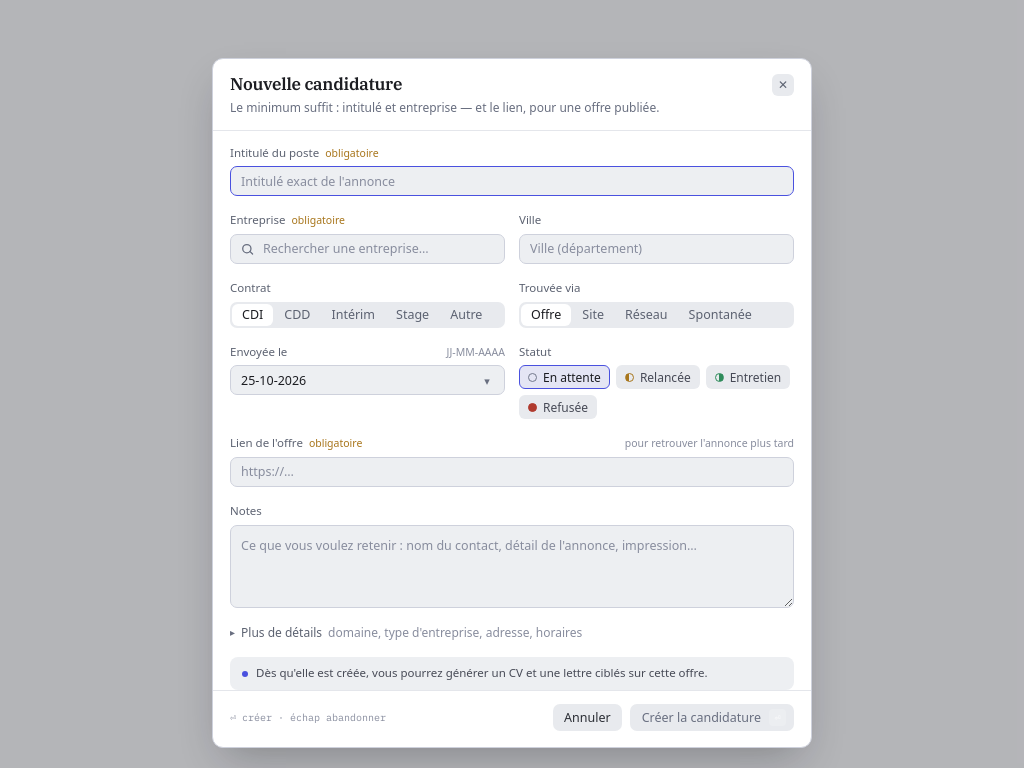
Test: Nouvelle candidature — création rapide d'entreprise › crée l'entreprise sans quitter le formulaire et la sélectionne
In the field labelled "Intitulé du poste": point(512, 181) 230,166 -> 794,196, type "Développeur Frontend"
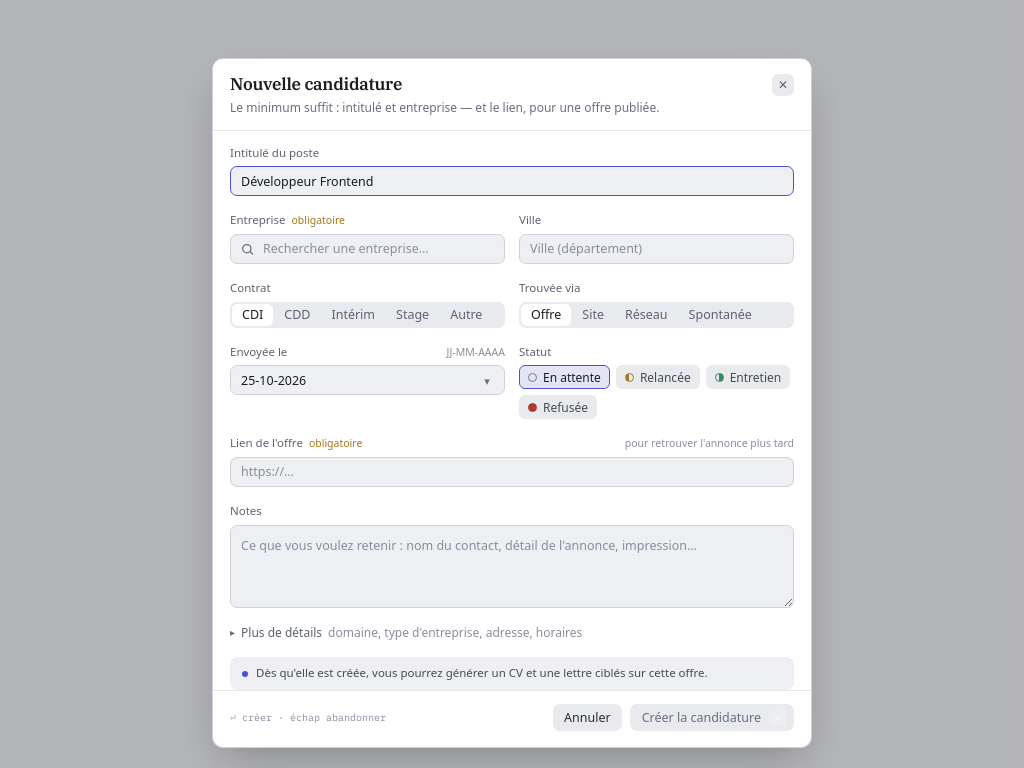
In the dropdown labelled "Entreprise": point(368, 249) 230,234 -> 505,264, type "Nova Digital"
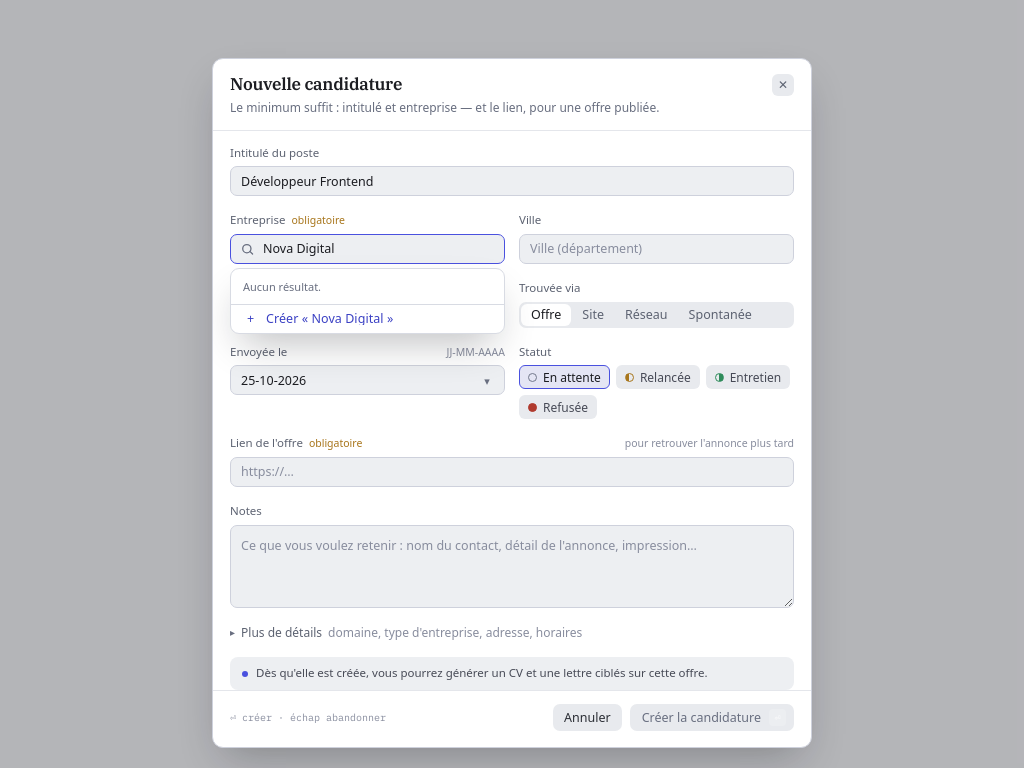
Click the button "+ Créer « Nova Digital »": point(368, 319) 231,304 -> 504,334
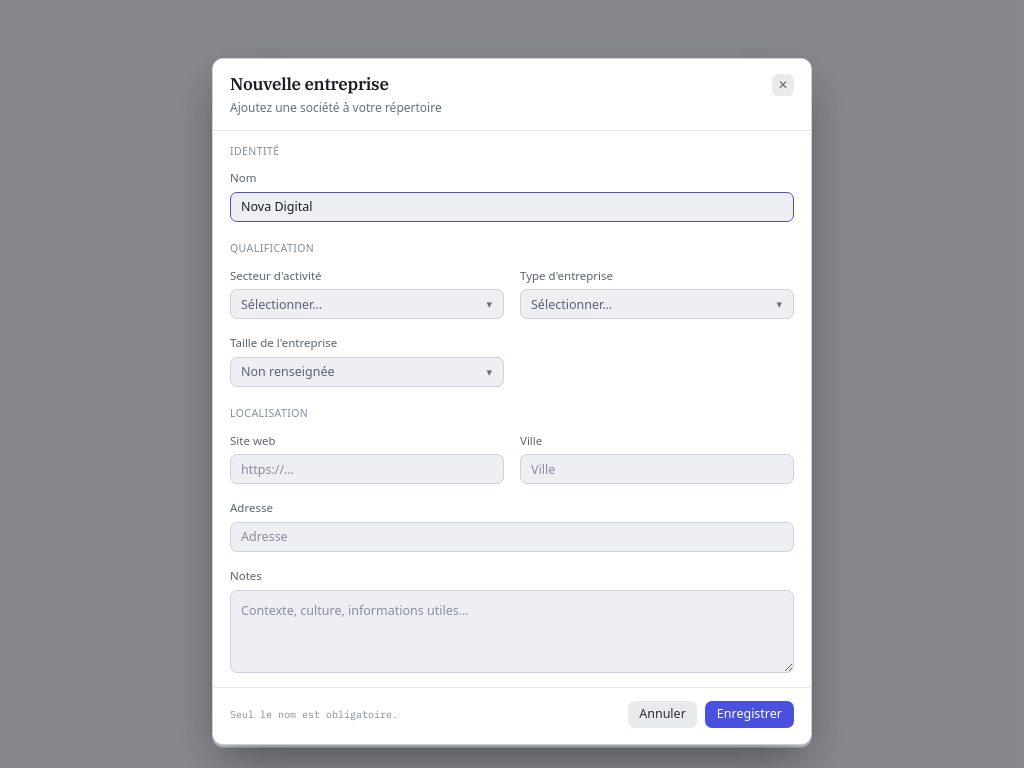
expect the field labelled "Nom" holds "Nova Digital": met, box 230,192 -> 794,222
Click the button "Enregistrer": point(749, 714) 705,700 -> 794,728
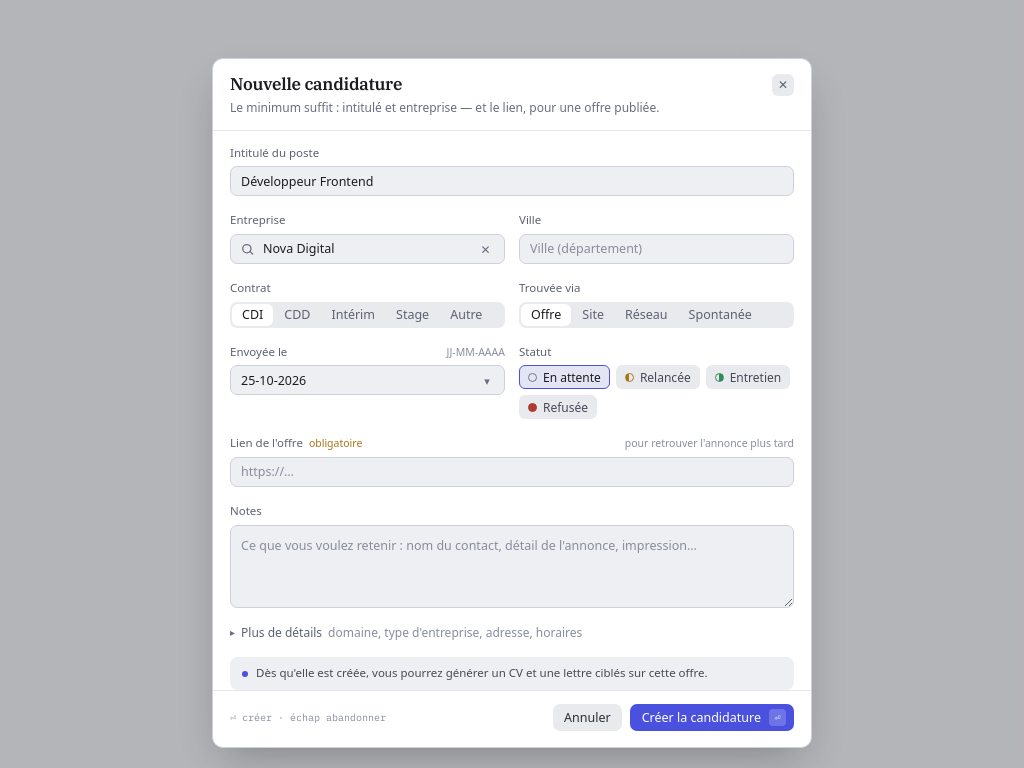
expect the heading "Nouvelle entreprise" is gone: met
